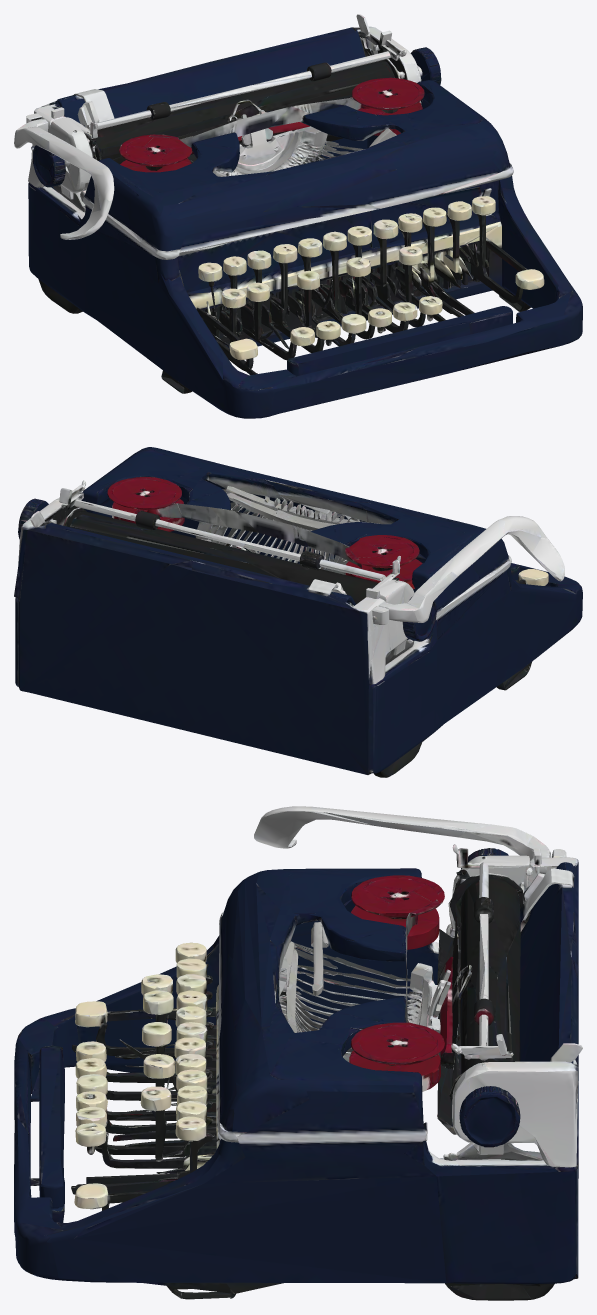
File: typewriter.glb
3 renders of one model, top to bottom at view 1: azimuth 30°, elevation 25°; view 2: azimuth 150°, elevation 25°; view 3: azimuth 270°, elevation 25°, orthographic. The views are drawn at different scales.
Visible parts, largest first — view 1: Mesh_0; view 2: Mesh_0; view 3: Mesh_0.
Boxes of the visible parts, x1=… form: Mesh_0: x1=14, y1=14, x2=582, y2=418; Mesh_0: x1=14, y1=447, x2=582, y2=777; Mesh_0: x1=14, y1=806, x2=582, y2=1300.
Size of the model in its own units: 1.9 by 0.8025 by 1.62.
1 material, 1 textured.
